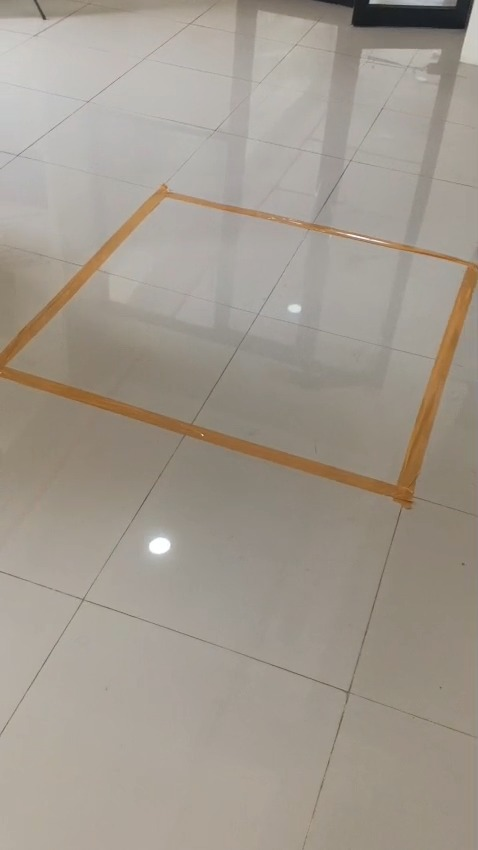floor marking: (0, 185, 477, 506)
